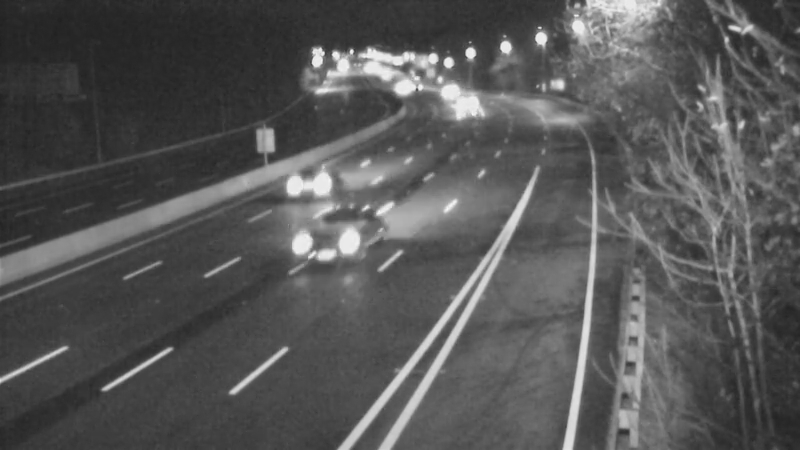vehicle: (273, 149, 353, 229), (286, 209, 366, 289), (390, 56, 440, 106), (378, 68, 428, 118), (420, 68, 470, 118), (444, 76, 494, 126), (447, 91, 497, 141)
